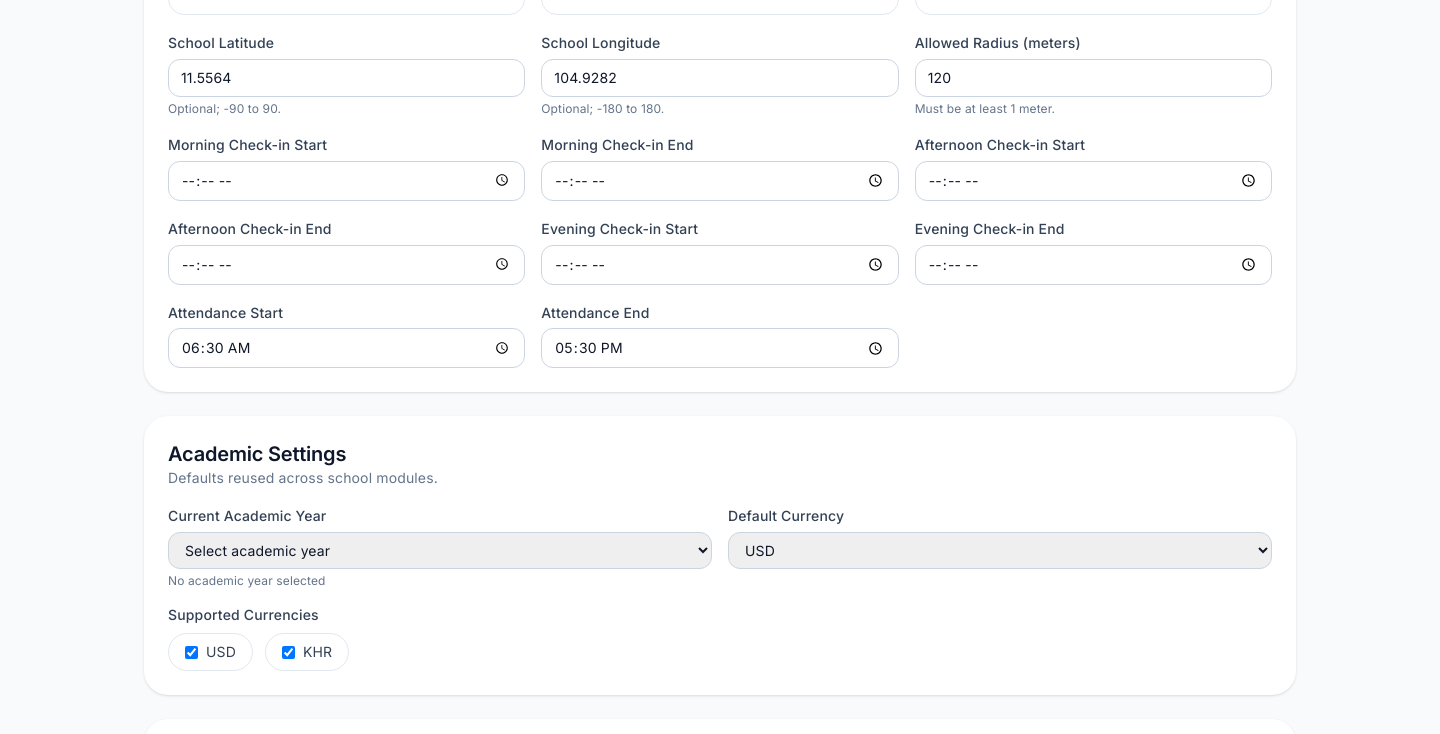
Test: SchoolSettingsPage attendance settings › rejects an invalid time value before saving
The width and height of the screenshot is (1440, 734).
(page scrolled)
Expected: the number field labelled "Allowed Radius (meters) Must be at least 1 meter." holds "120", top-left (915, 59), bottom-right (1272, 97)
Clear the time field labelled "Attendance Start" at coordinates (347, 348), box top-left (168, 328), bottom-right (525, 368)
(page scrolled)
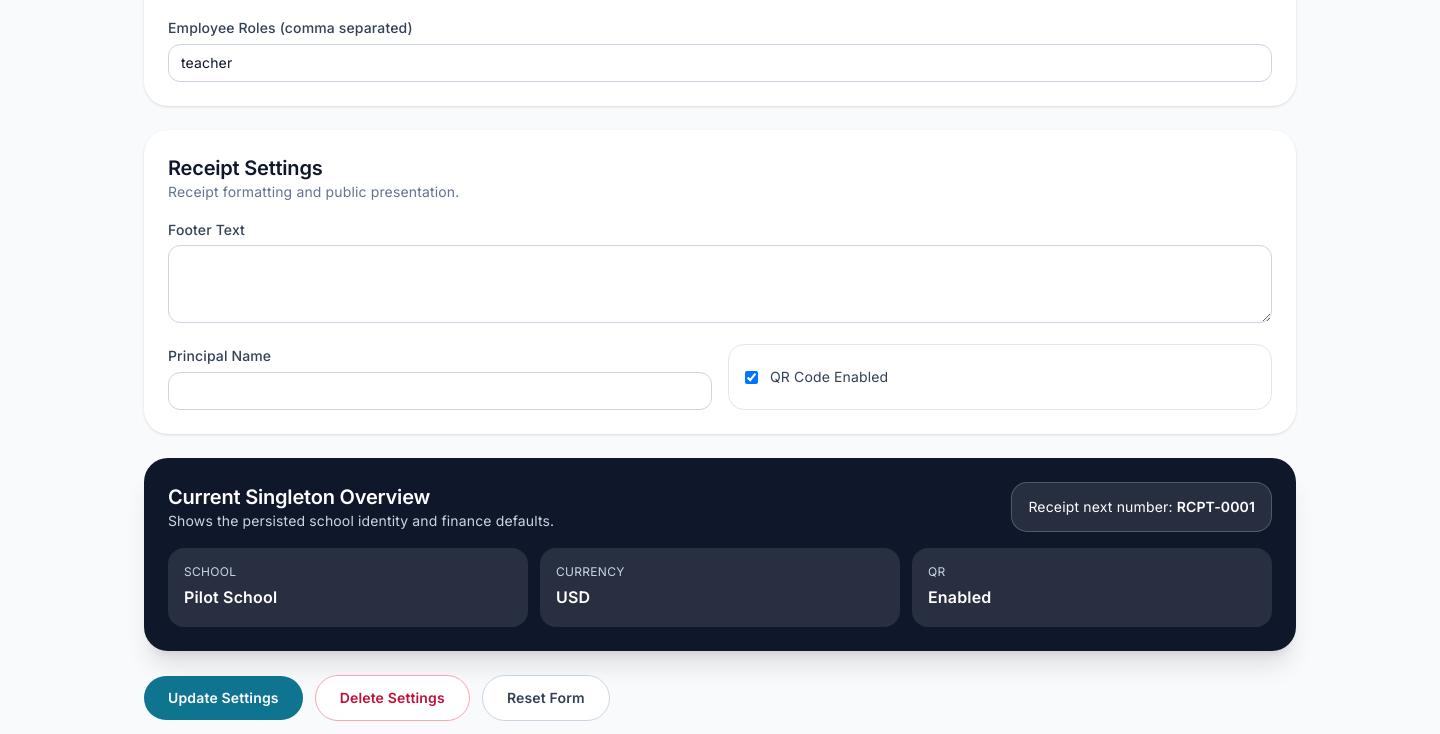
Click the button "Update Settings" at coordinates (223, 698), box top-left (144, 676), bottom-right (303, 720)
(page scrolled)
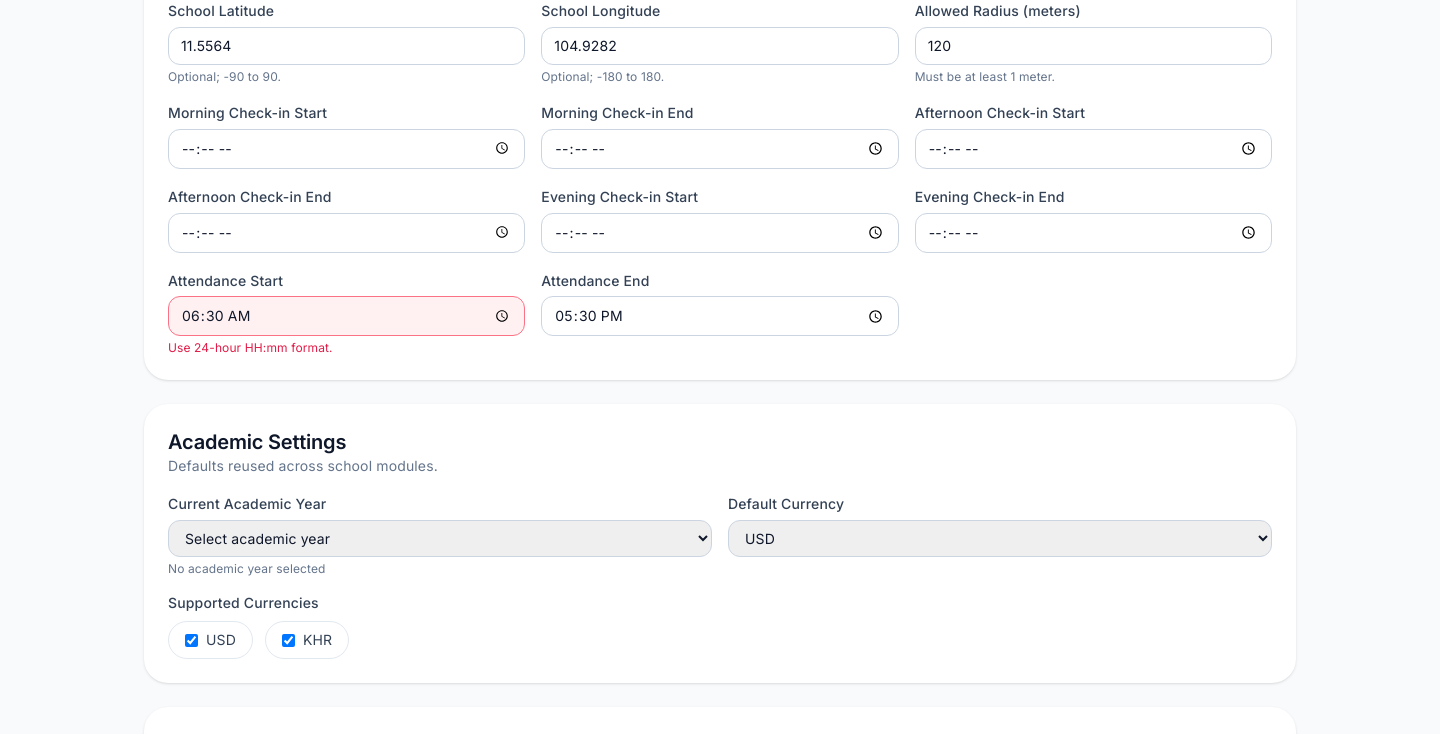
Expected: the text "Use 24-hour HH:mm format." is shown, top-left (168, 340), bottom-right (333, 355)
